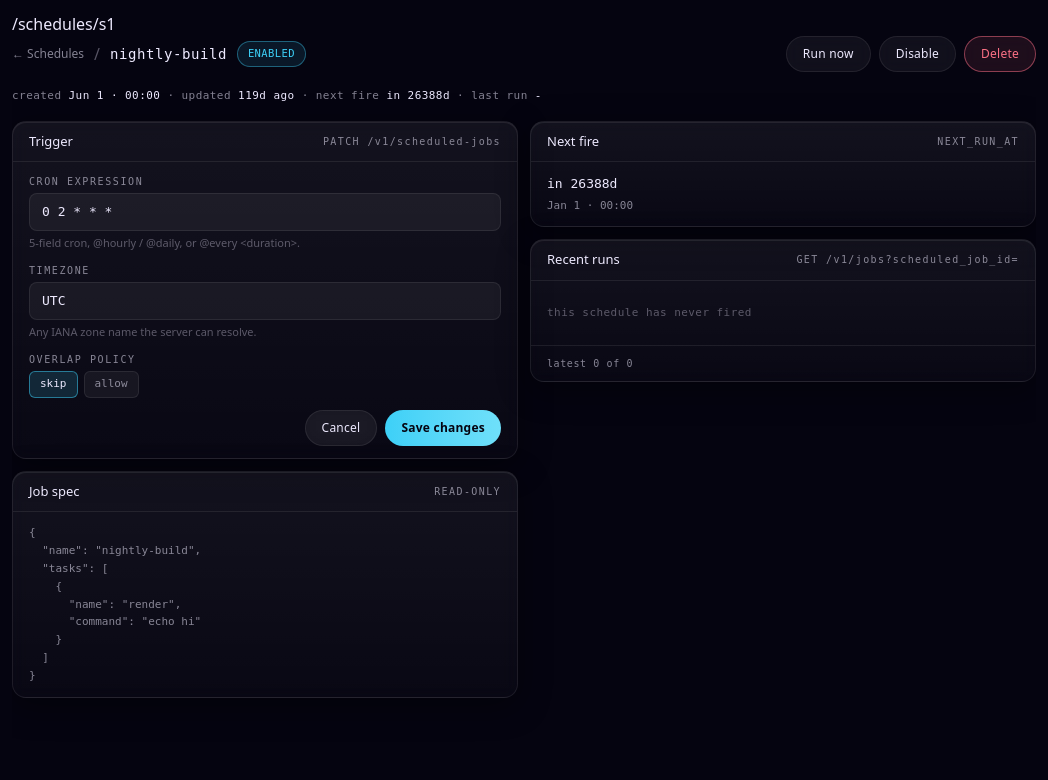
Test: a failed save renders the server message inside the form, not in a page banner
Check: the text "nightly-build" is shown, box [110,44,227,64]
Replace the text in the field labelled "Cron expression" with "@every 1s": [265, 212] box [29,193,501,230]
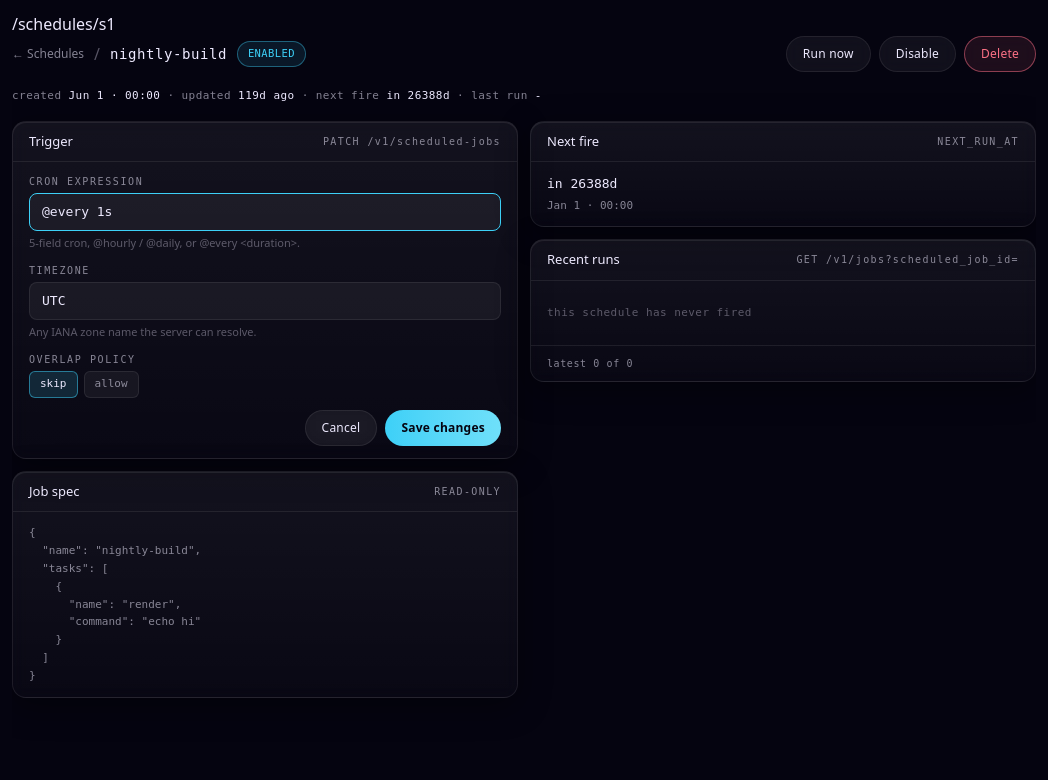
Click the button "Save changes": [443, 428] box [385,410,501,446]
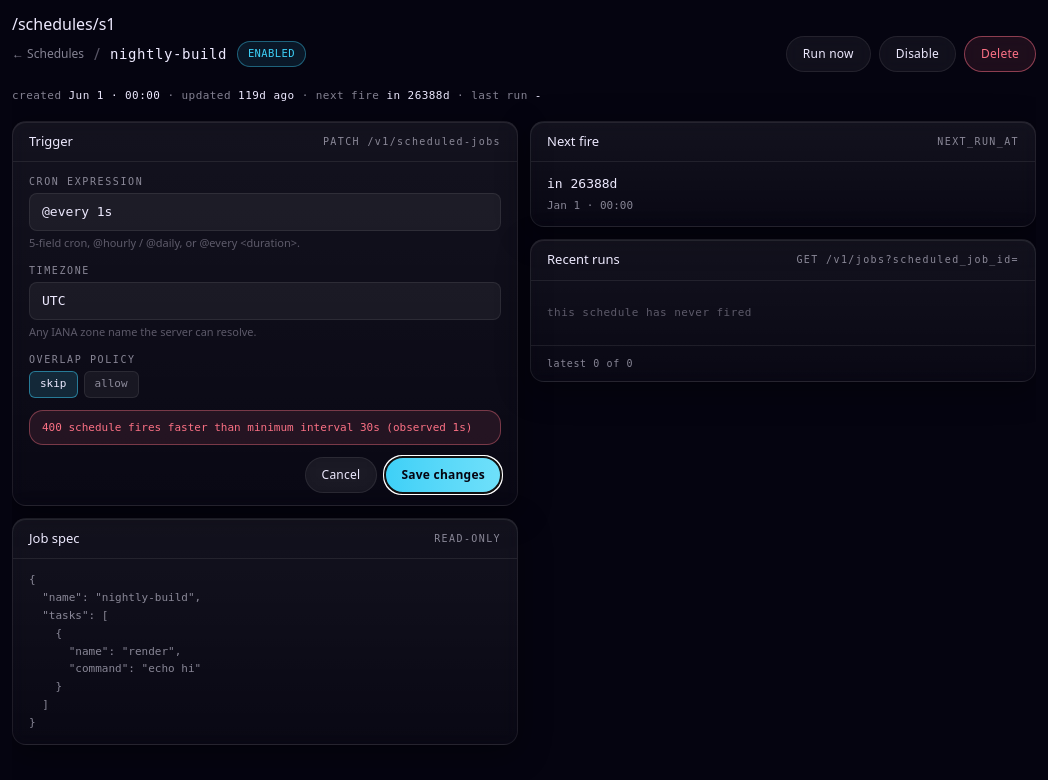
Check: the message shows "minimum interval 30s", box [42,420,472,434]
